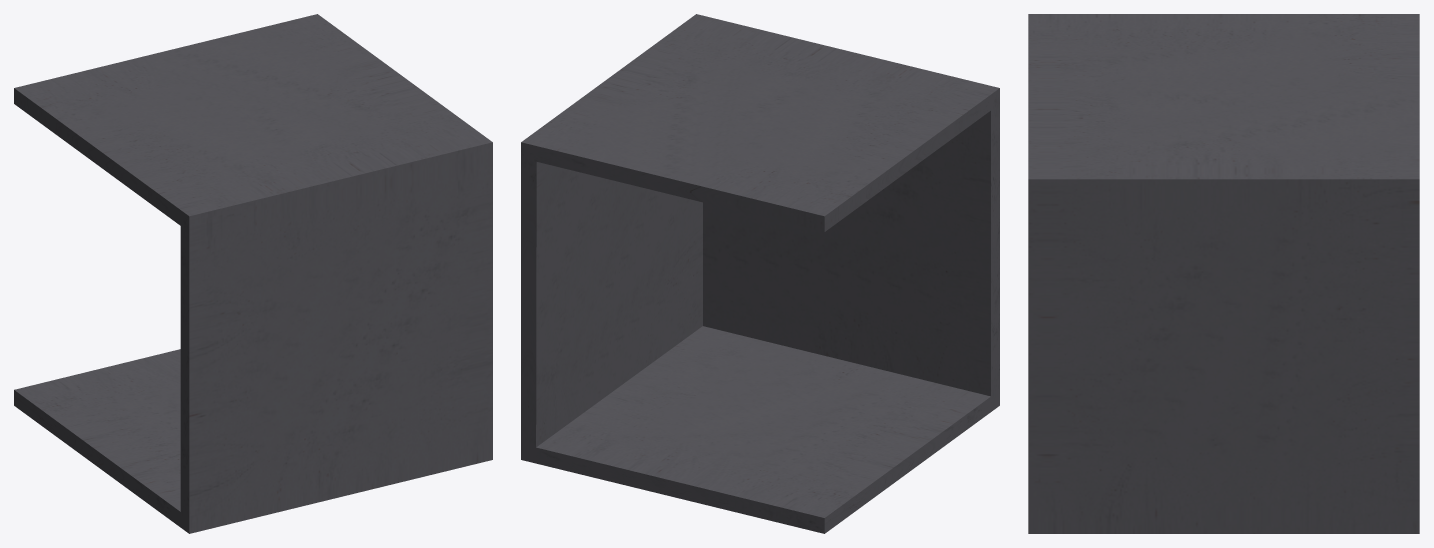
The model's file is cornerRoom.fbx.
The picture shows the model from 3 angles, left to right: view 1: azimuth 30°, elevation 25°; view 2: azimuth 150°, elevation 25°; view 3: azimuth 270°, elevation 25°; orthographic projection. The views are drawn at different scales.
Visible parts, largest first — view 1: cornerRoom:RoadKillOut; view 2: cornerRoom:RoadKillOut; view 3: cornerRoom:RoadKillOut.
Boxes of the visible parts, x1,y1,x2,y2 form: cornerRoom:RoadKillOut: [14, 14, 492, 533]; cornerRoom:RoadKillOut: [521, 14, 999, 533]; cornerRoom:RoadKillOut: [1028, 14, 1419, 533].
Bounding box in the file's own units: 20 × 20 × 20.
1 material, 1 textured.
